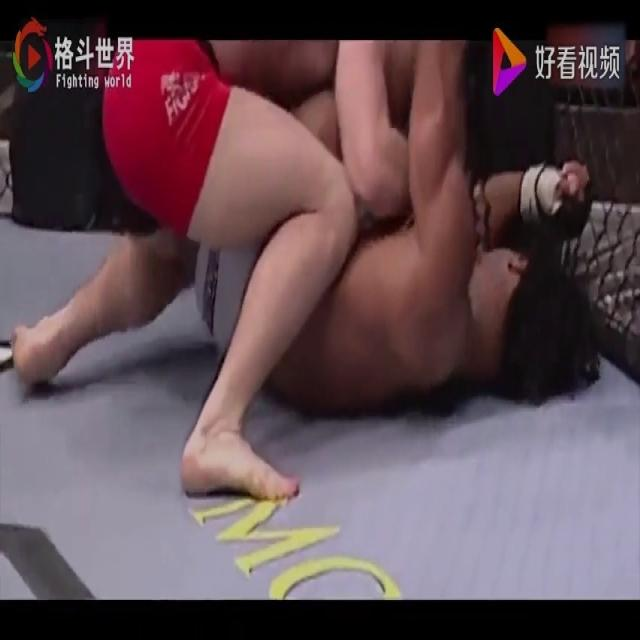fight: (9, 24, 611, 497)
